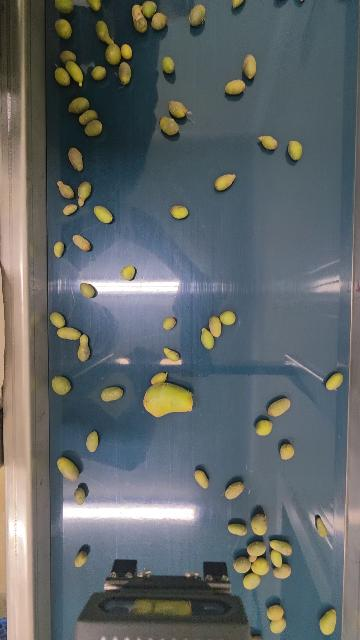Baby Potato: (141, 382, 196, 419), (55, 458, 80, 483), (63, 60, 84, 88), (319, 608, 339, 636), (159, 114, 181, 137), (240, 52, 258, 80), (268, 397, 293, 417), (167, 99, 188, 122), (95, 20, 115, 44), (131, 5, 148, 33), (250, 511, 269, 536), (232, 555, 257, 573), (116, 61, 133, 87), (67, 147, 85, 170), (188, 4, 206, 26), (55, 18, 73, 40), (214, 173, 236, 191), (76, 108, 99, 125), (99, 387, 123, 403), (51, 376, 70, 396), (276, 441, 296, 460), (225, 481, 245, 500), (268, 616, 288, 635), (93, 205, 114, 223), (77, 181, 92, 206), (198, 328, 215, 350), (67, 97, 90, 113), (270, 540, 293, 556), (223, 80, 247, 95), (251, 558, 271, 576), (53, 67, 70, 88), (313, 517, 329, 539), (77, 333, 89, 362), (245, 542, 268, 557), (57, 180, 75, 199), (193, 470, 210, 490), (253, 420, 274, 436), (288, 140, 303, 162), (72, 233, 90, 251), (150, 11, 167, 30), (325, 373, 344, 390), (105, 43, 121, 63), (257, 136, 278, 151), (78, 282, 96, 299), (265, 604, 284, 620), (83, 121, 103, 136), (56, 328, 81, 340), (242, 574, 262, 589), (208, 315, 221, 338), (220, 310, 237, 327), (150, 369, 169, 384), (270, 549, 285, 568), (140, 1, 157, 17), (54, 1, 76, 13), (86, 430, 98, 452), (228, 523, 248, 536), (163, 347, 180, 362), (161, 56, 175, 74), (170, 205, 188, 219), (273, 565, 292, 578), (74, 487, 86, 506), (91, 66, 106, 81), (51, 312, 65, 328), (74, 551, 87, 568), (60, 50, 78, 62), (54, 240, 65, 259), (119, 42, 132, 58), (121, 266, 135, 280), (163, 317, 176, 332), (88, 0, 100, 11), (230, 0, 244, 9)
